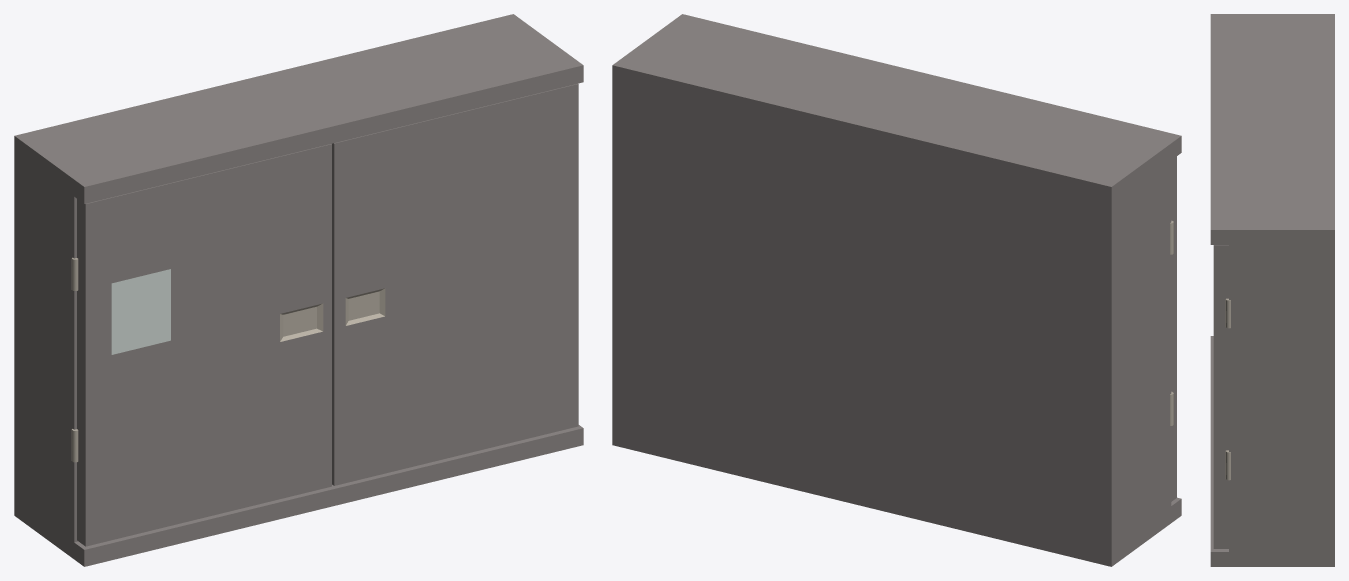
Rendered from SM_Shield_01.fbx.
3 views of the same model, side by side, from view 1: azimuth 30°, elevation 25°; view 2: azimuth 150°, elevation 25°; view 3: azimuth 270°, elevation 25° (orthographic). The views are drawn at different scales.
Visible parts, largest first — view 1: SM_Shield_01; view 2: SM_Shield_01; view 3: SM_Shield_01.
Part boxes in pixels (x1=…): SM_Shield_01: x1=14, y1=14, x2=583, y2=566; SM_Shield_01: x1=612, y1=14, x2=1181, y2=566; SM_Shield_01: x1=1210, y1=14, x2=1334, y2=566.
Size of the model in its own units: 114 by 82.64 by 27.76.
